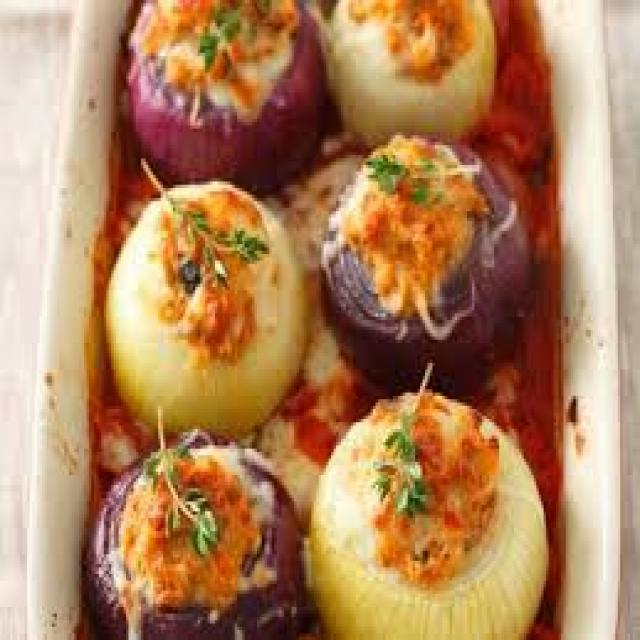organic waste: (306, 379, 544, 637), (321, 125, 529, 392), (99, 175, 304, 429), (79, 429, 304, 637), (124, 0, 326, 185), (324, 0, 494, 142)
